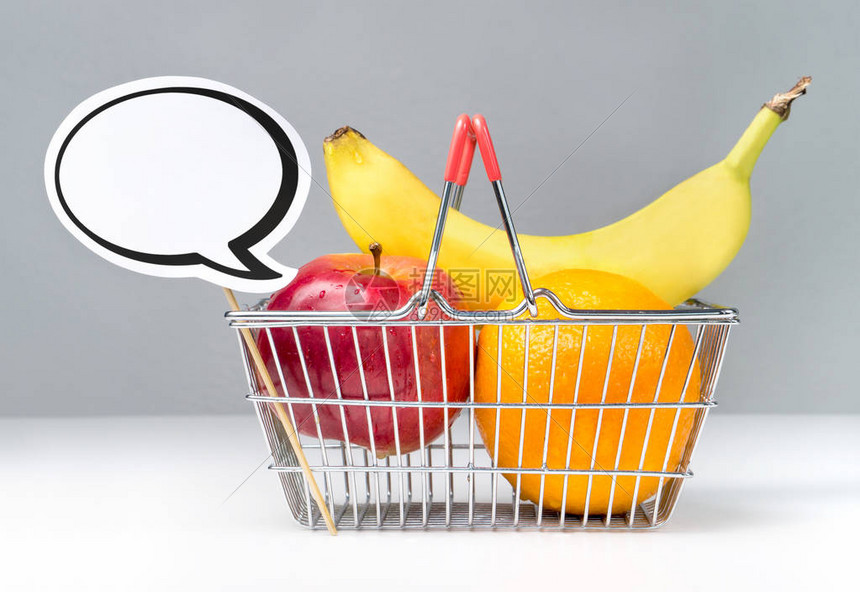apple: (259, 248, 473, 454)
banana: (311, 69, 844, 302)
orange: (478, 271, 704, 510)
